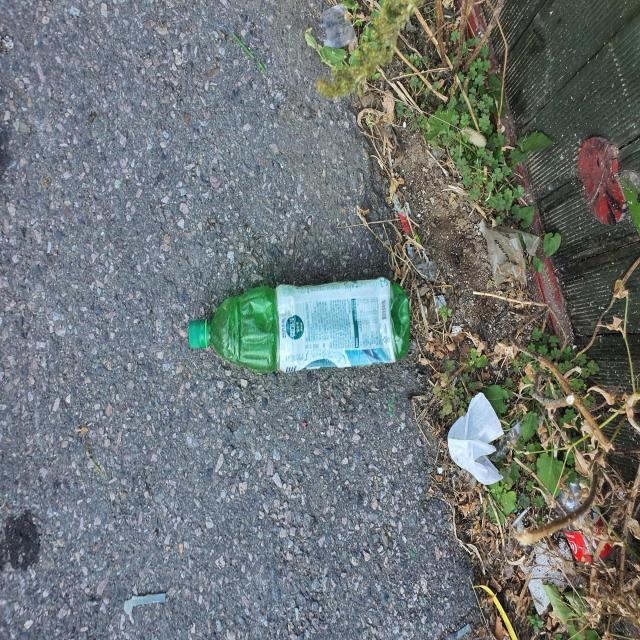plastic: (188, 277, 410, 372)
